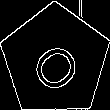O_NE: (23, 28, 87, 93)
